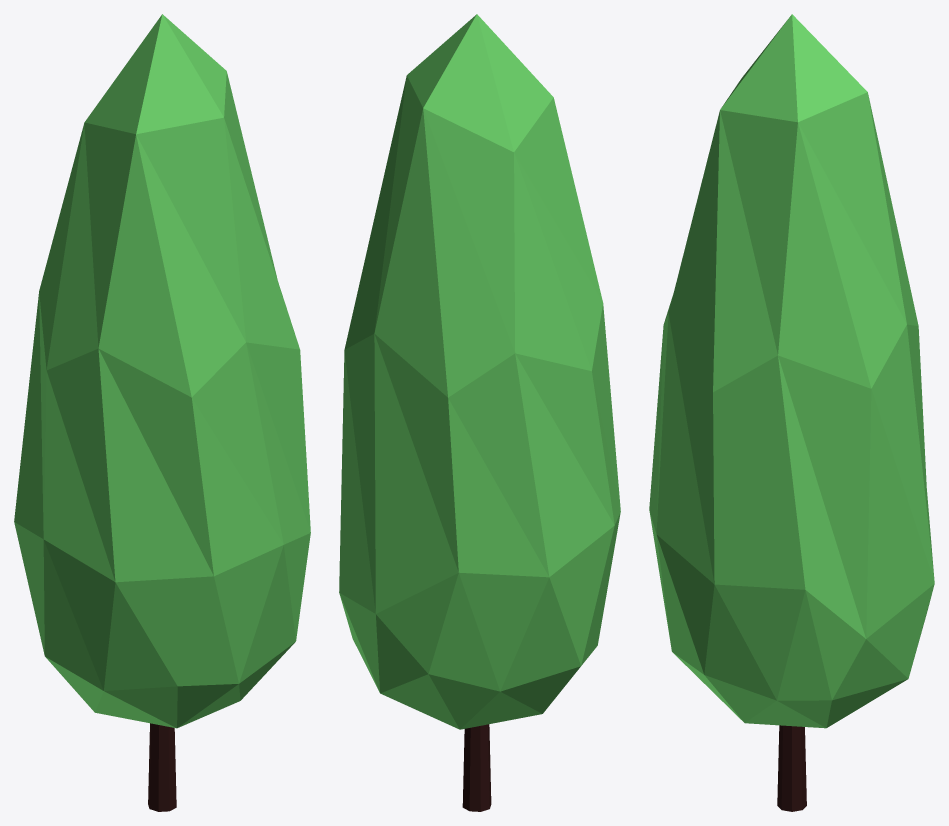
File: Tree_2.fbx
The picture shows the model from 3 angles, left to right: view 1: azimuth 30°, elevation 25°; view 2: azimuth 150°, elevation 25°; view 3: azimuth 270°, elevation 25°; orthographic projection.
Parts seen in each view (by area): view 1: Leaves, Stem; view 2: Leaves, Stem; view 3: Leaves, Stem.
Part boxes in pixels (left/top/right/bottom): Leaves: left=14, top=14, right=310, bottom=728; Stem: left=148, top=723, right=176, bottom=811; Leaves: left=339, top=14, right=620, bottom=729; Stem: left=462, top=724, right=491, bottom=811; Leaves: left=649, top=14, right=934, bottom=728; Stem: left=777, top=725, right=806, bottom=811.
Bounding box in the file's own units: 199 × 589 × 193.
